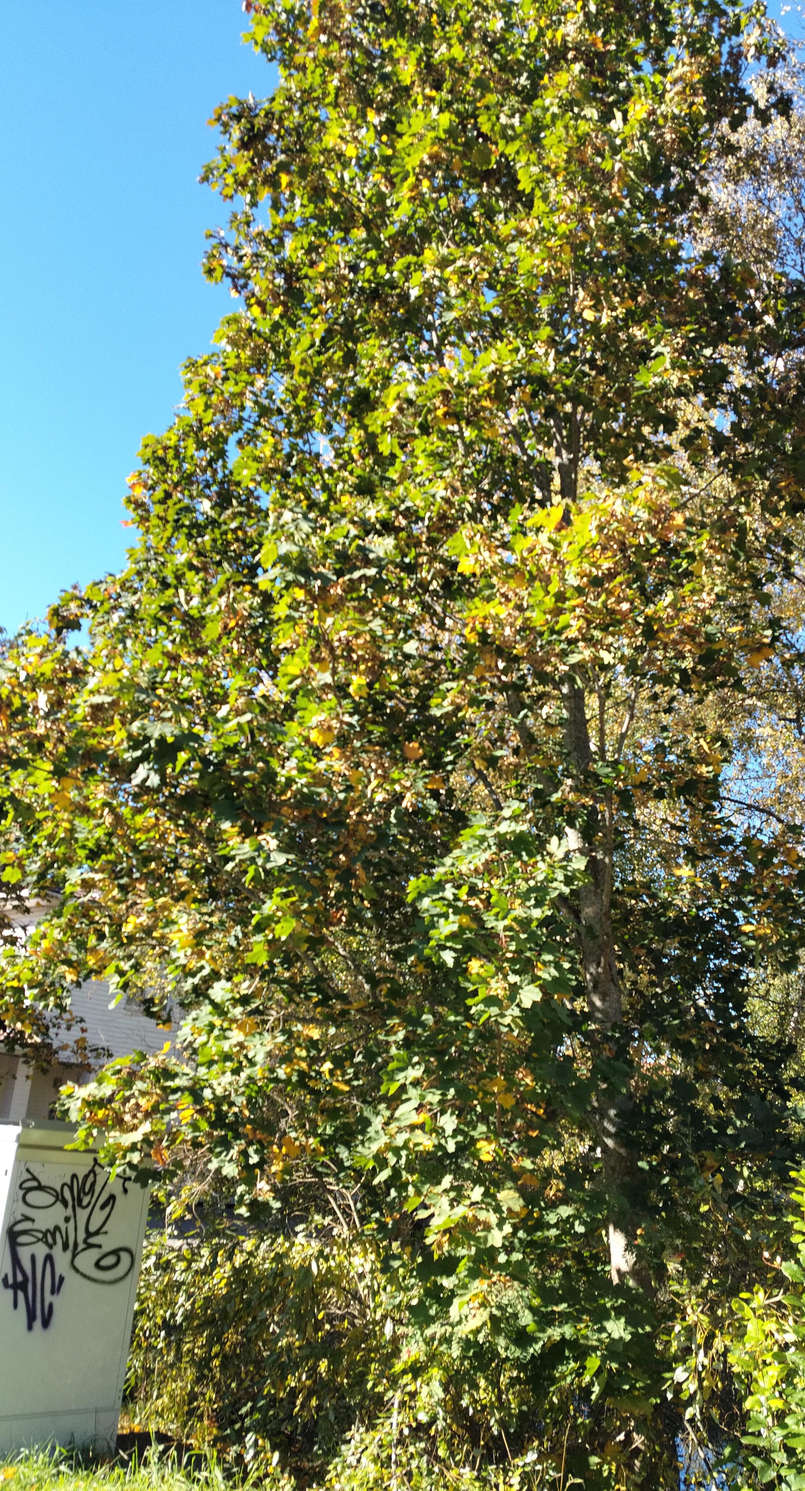Maple: (2, 1, 802, 1488)
